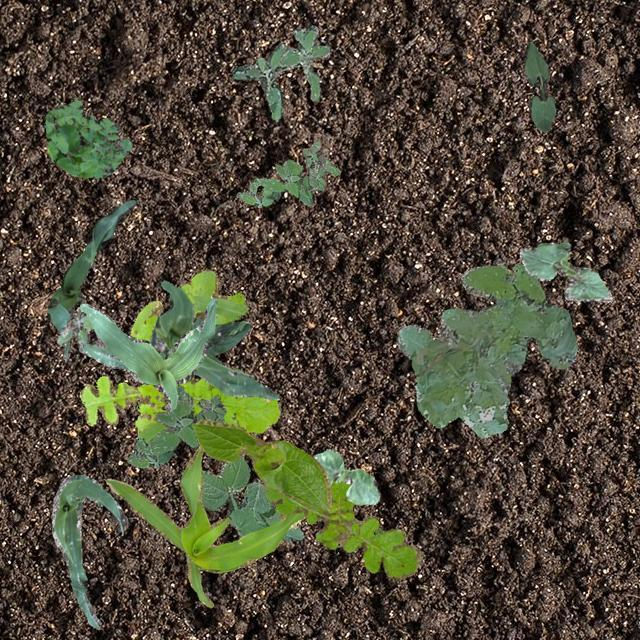crop: (104, 444, 306, 606), (148, 280, 280, 398), (78, 298, 216, 410), (46, 198, 134, 360), (190, 418, 330, 509), (50, 474, 126, 628), (518, 242, 612, 302), (314, 448, 379, 503), (524, 41, 554, 130), (188, 316, 250, 354)
weed: (78, 268, 280, 442), (396, 263, 576, 437), (262, 479, 420, 578), (232, 24, 330, 120), (200, 454, 302, 540), (127, 384, 226, 466), (236, 140, 340, 207), (42, 98, 130, 176), (56, 306, 92, 344)
